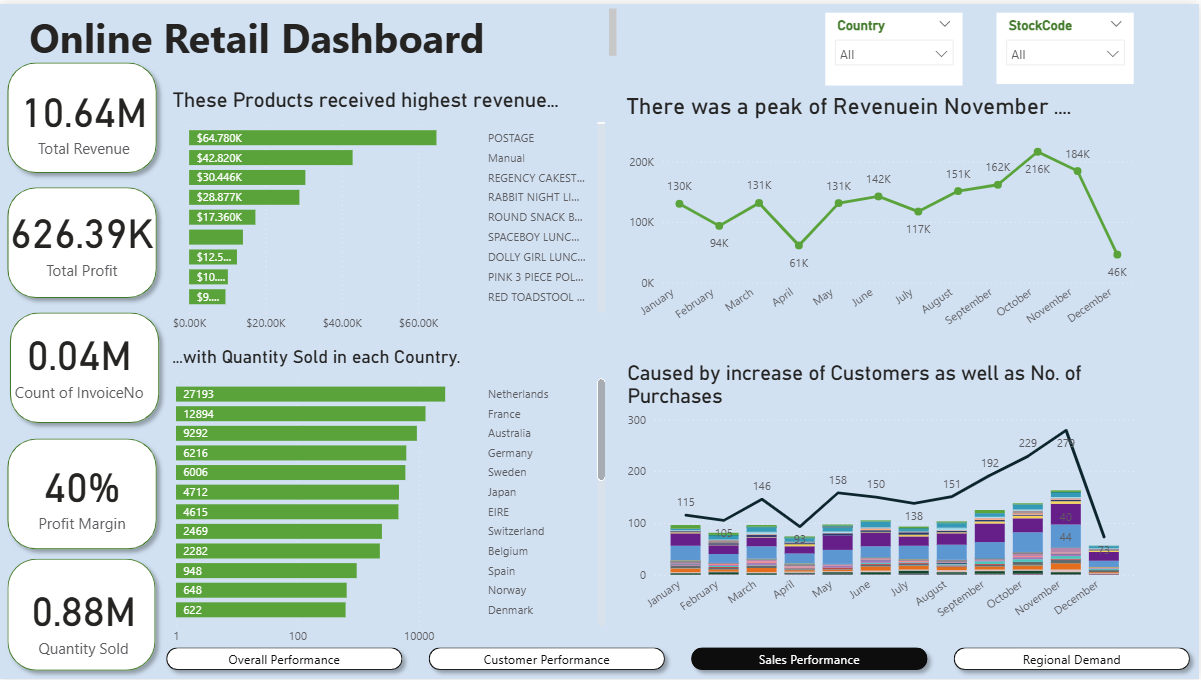

What the dashboard file says about the page in this screenshot:
{"tool":"powerbi","page":{"name":"Sales Performance","canvas":[1280,720],"ordinal":2},"visuals":[{"type":"shape","box":[0,53.6,177.2,136],"z":0},{"type":"shape","box":[0,186.8,177.2,136],"z":1000},{"type":"shape","box":[2.7,320.1,177.2,136],"z":2000},{"type":"shape","box":[0,454.7,177.2,136],"z":3000},{"type":"pageNavigator","box":[169,677.5,1111.3,42.3],"z":4000},{"type":"card","fields":{"Values":["CountNonNull(fact_sales.InvoiceNo)"]},"box":[2.8,321.1,166.2,119.7],"z":5000},{"type":"card","fields":{"Values":["fact_sales.Total Profit"]},"box":[0,199.2,177.2,105.8],"z":6000},{"type":"slicer","fields":{"Values":["dim_products.StockCode"]},"box":[1143.7,187.3,136.6,74.6],"z":7000},{"type":"card","fields":{"Values":["fact_sales.Total Revenue(all)"]},"box":[12.8,75,154.9,94.2],"z":8000},{"type":"slicer","fields":{"Values":["dim_date.Date.Variation.Date Hierarchy.Year","dim_date.Date.Variation.Date Hierarchy.Quarter","dim_date.Date.Variation.Date Hierarchy.Month","dim_date.Date.Variation.Date Hierarchy.Day"]},"box":[1145.1,283.1,135.2,77.5],"z":9000},{"type":"slicer","fields":{"Values":["dim_invoice.Country"]},"box":[1142.3,85.9,138,70.4],"z":10000},{"type":"shape","box":[0,582.4,175.8,137.4],"z":11000},{"type":"card","fields":{"Values":["fact_sales.Profit Margin"]},"box":[0,464.2,177.6,115.7],"z":12000},{"type":"clusteredBarChart","title":"...with Quantity Sold  in each Country.","fields":{"Category":["dim_invoice.Country","dim_products.Description"],"Y":["Sum(fact_sales.Quantity)"]},"box":[191.5,359.2,471.8,326.8],"z":13000},{"type":"lineStackedColumnComboChart","title":"Caused by increase of Customers  as well as No. of Purchases ","fields":{"Y":["dim_invoice.Customer Count"],"Series":["dim_invoice.Country"],"Y2":["CountNonNull(dim_invoice.InvoiceNo)"],"Category":["dim_date.Date.Variation.Date Hierarchy.Month"]},"box":[698.6,360.6,407,316.9],"z":14000},{"type":"lineChart","title":" There was a peak of Revenuein November ....","fields":{"Category":["dim_date.Date.Variation.Date Hierarchy.Month"],"Y":["fact_sales.Total Revenue(all)","fact_sales.Total Revenue (UK)","fact_sales.Total Revenue(other countries)"]},"box":[698.6,74.6,407,276.1],"z":15000},{"type":"clusteredBarChart","title":"These Products received highest revenue...","fields":{"Category":["dim_products.Description"],"Y":["Sum(fact_sales.Revenue)","Sum(fact_sales.Quantity)"]},"box":[191.5,63.4,471.8,269],"z":16000},{"type":"card","fields":{"Values":["Sum(fact_sales.Quantity)"]},"box":[0,589.7,180.8,130.3],"z":17000},{"type":"textbox","box":[26.8,0,636.6,63.4],"z":18000}]}

Visuals, with their boxes in screenshot pixels (x1, y1, x2, y2), scaled from the page's 1280x720 canvas onto the 1201x680 screenshot:
shape: (0,51,166,179)
shape: (0,176,166,305)
shape: (3,302,169,431)
shape: (0,429,166,558)
pageNavigator: (159,640,1200,679)
card - CountNonNull(fact_sales.InvoiceNo): (3,303,159,416)
card - fact_sales.Total Profit: (0,188,166,288)
slicer - dim_products.StockCode: (1073,177,1200,247)
card - fact_sales.Total Revenue(all): (12,71,157,160)
slicer - dim_date.Date.Variation.Date Hierarchy.Year x dim_date.Date.Variation.Date Hierarchy.Quarter: (1074,267,1200,341)
slicer - dim_invoice.Country: (1072,81,1200,148)
shape: (0,550,165,679)
card - fact_sales.Profit Margin: (0,438,167,548)
"...with Quantity Sold  in each Country." clusteredBarChart: (180,339,622,648)
"Caused by increase of Customers  as well as No. of Purchases " lineStackedColumnComboChart: (655,341,1037,640)
" There was a peak of Revenuein November ...." lineChart: (655,70,1037,331)
"These Products received highest revenue..." clusteredBarChart: (180,60,622,314)
card - Sum(fact_sales.Quantity): (0,557,170,679)
textbox: (25,0,622,60)
